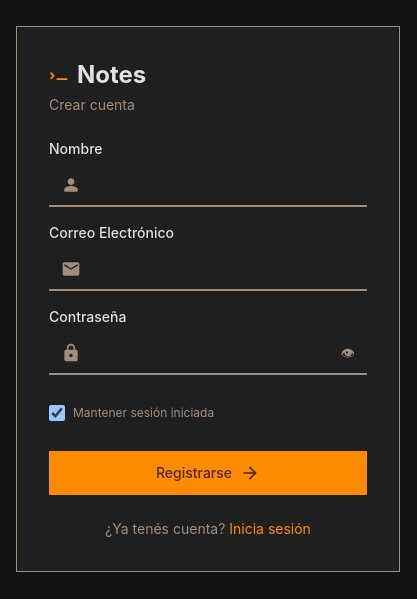
RegisterPage › shows error when name is empty
In the field labelled "Correo Electrónico": (208, 269) [49, 247, 367, 291], type "u@t.com"
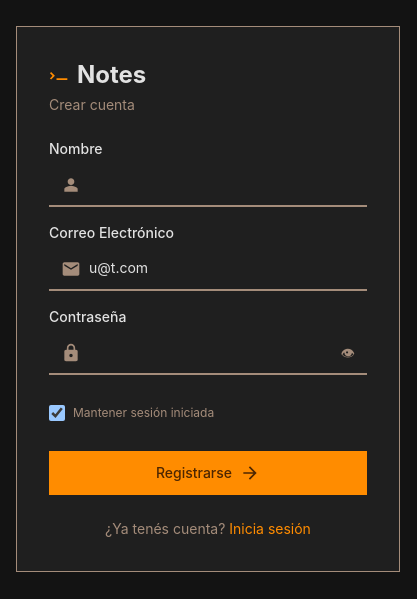
In the password field labelled "Contraseña": (208, 353) [49, 331, 367, 375], type "Password1!"
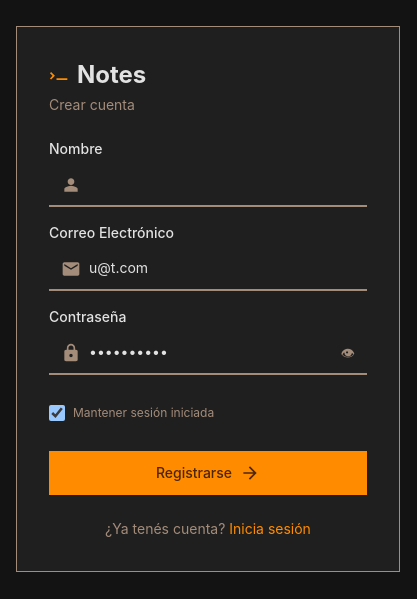
Click the button "Registrarse": (208, 473) [49, 451, 367, 495]
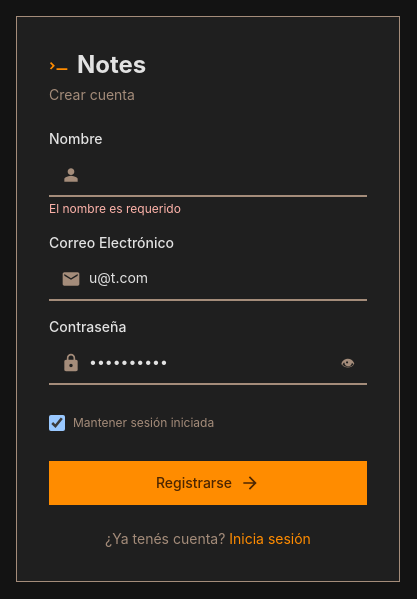
Now the text "El nombre es requerido" is shown, box [49, 201, 181, 216]
